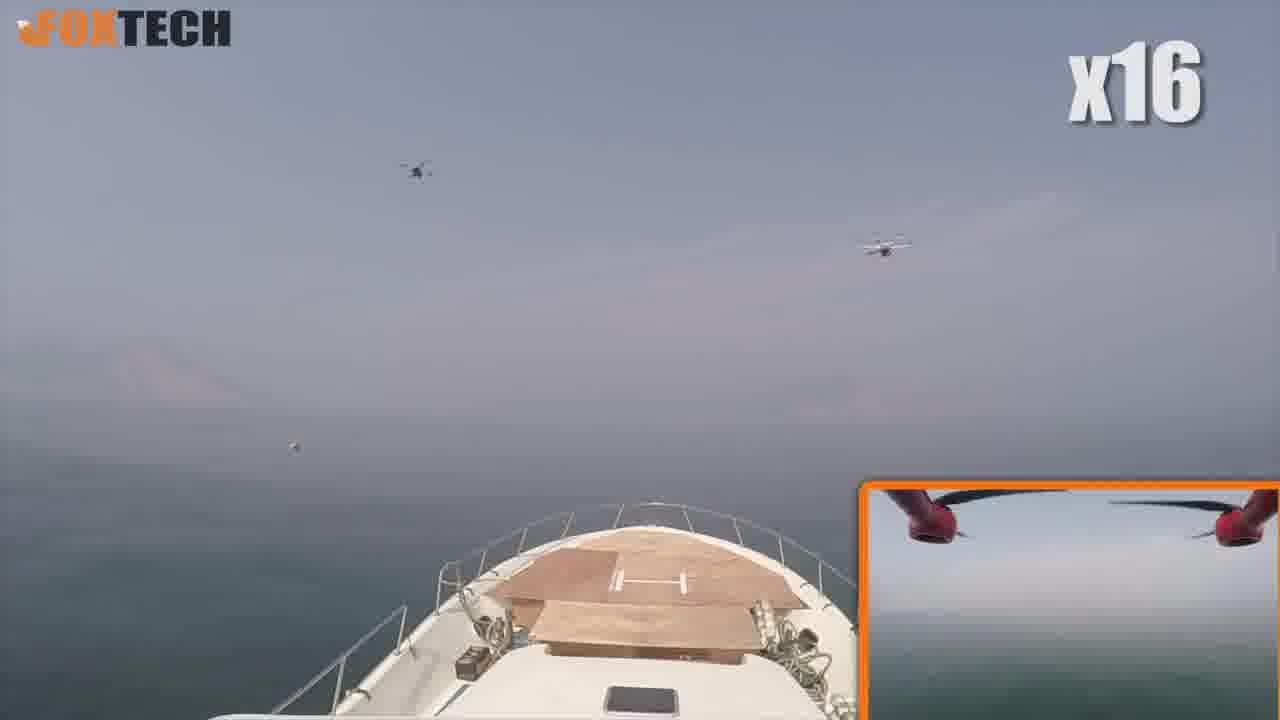drone: (854, 228, 914, 268), (397, 157, 438, 185)
